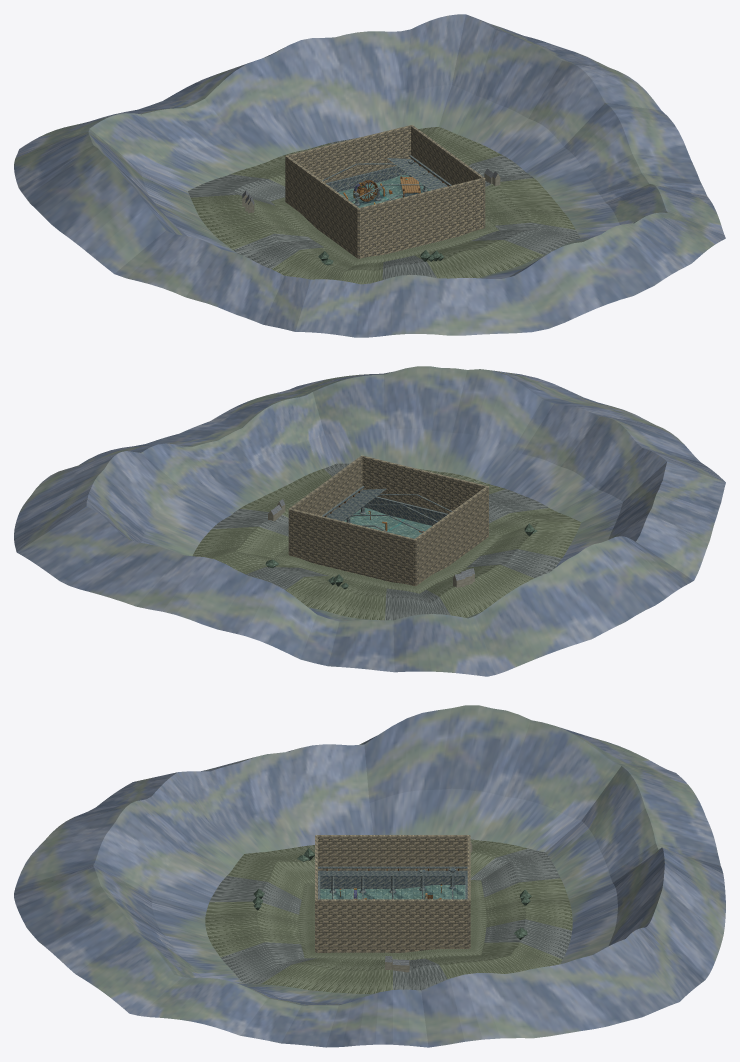
The model's file is TwinIntake.fbx.
The picture shows the model from 3 angles, top to bottom: view 1: azimuth 30°, elevation 25°; view 2: azimuth 150°, elevation 25°; view 3: azimuth 270°, elevation 25°; orthographic projection. The views are drawn at different scales.
Parts seen in each view (by area): view 1: Surroundings, C_Solids, Rim, Terrain, Set; view 2: Surroundings, C_Solids, Rim, Terrain; view 3: Surroundings, C_Solids, Rim, Terrain.
Part boxes in pixels (bbox=[...]): Surroundings: bbox=[14, 14, 725, 337]; C_Solids: bbox=[285, 125, 485, 258]; Rim: bbox=[322, 155, 451, 201]; Terrain: bbox=[338, 173, 430, 207]; Set: bbox=[343, 160, 428, 205]; Surroundings: bbox=[14, 366, 725, 676]; C_Solids: bbox=[288, 455, 488, 586]; Rim: bbox=[322, 486, 451, 532]; Terrain: bbox=[344, 507, 431, 538]; Surroundings: bbox=[14, 705, 725, 1047]; C_Solids: bbox=[315, 835, 470, 952]; Rim: bbox=[318, 866, 467, 899]; Terrain: bbox=[320, 885, 465, 899].
Bounding box in the file's own units: 19431 × 2983 × 19066.
